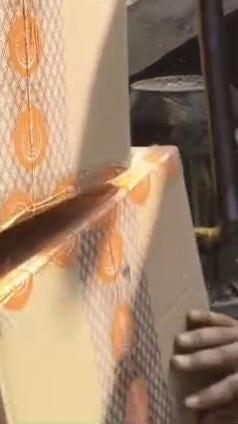box: (0, 148, 206, 423)
